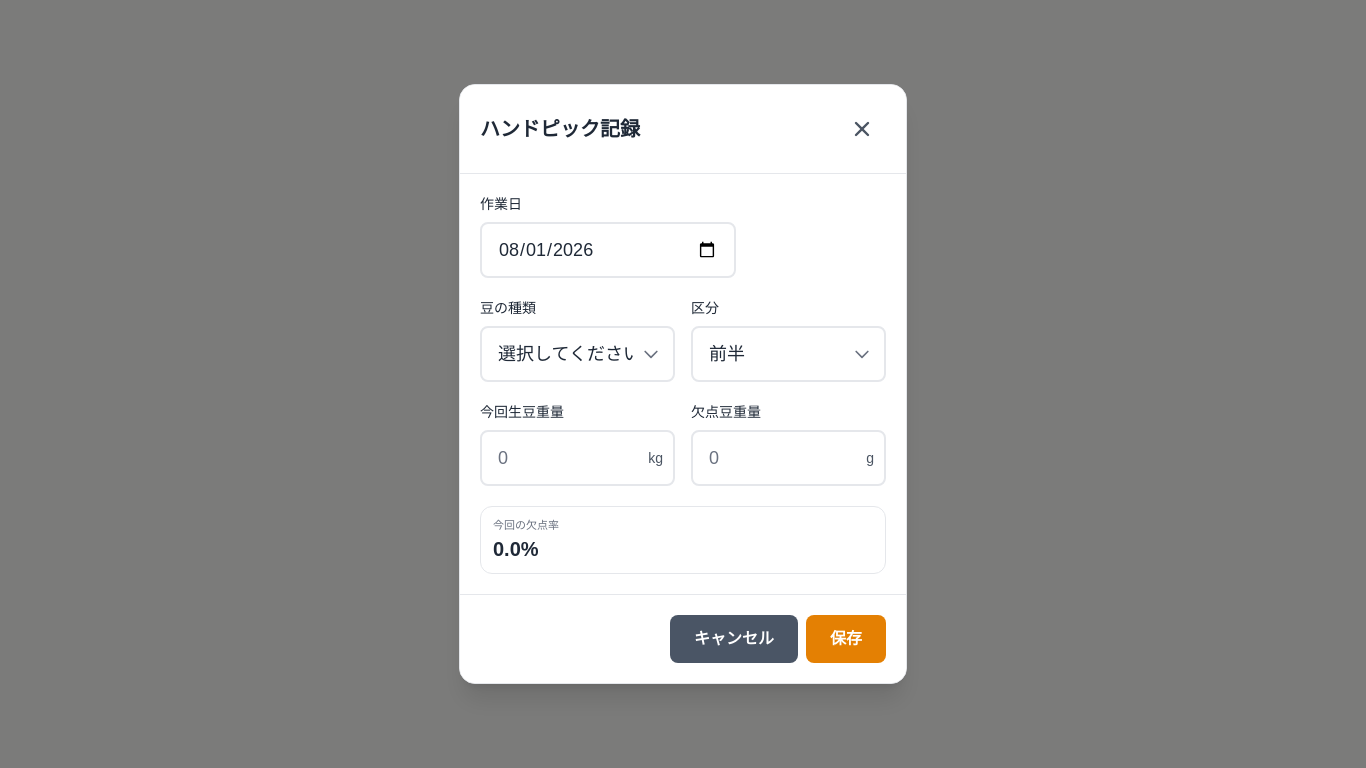
Test case: HandpickEntryModal › 月設定に豆が無いと豆名未選択で保存できずエラーを表示する
This screenshot has width=1366, height=768.
In the number field labelled "今回生豆重量": (578, 458) left=480, top=430, right=675, bottom=486, type "10"
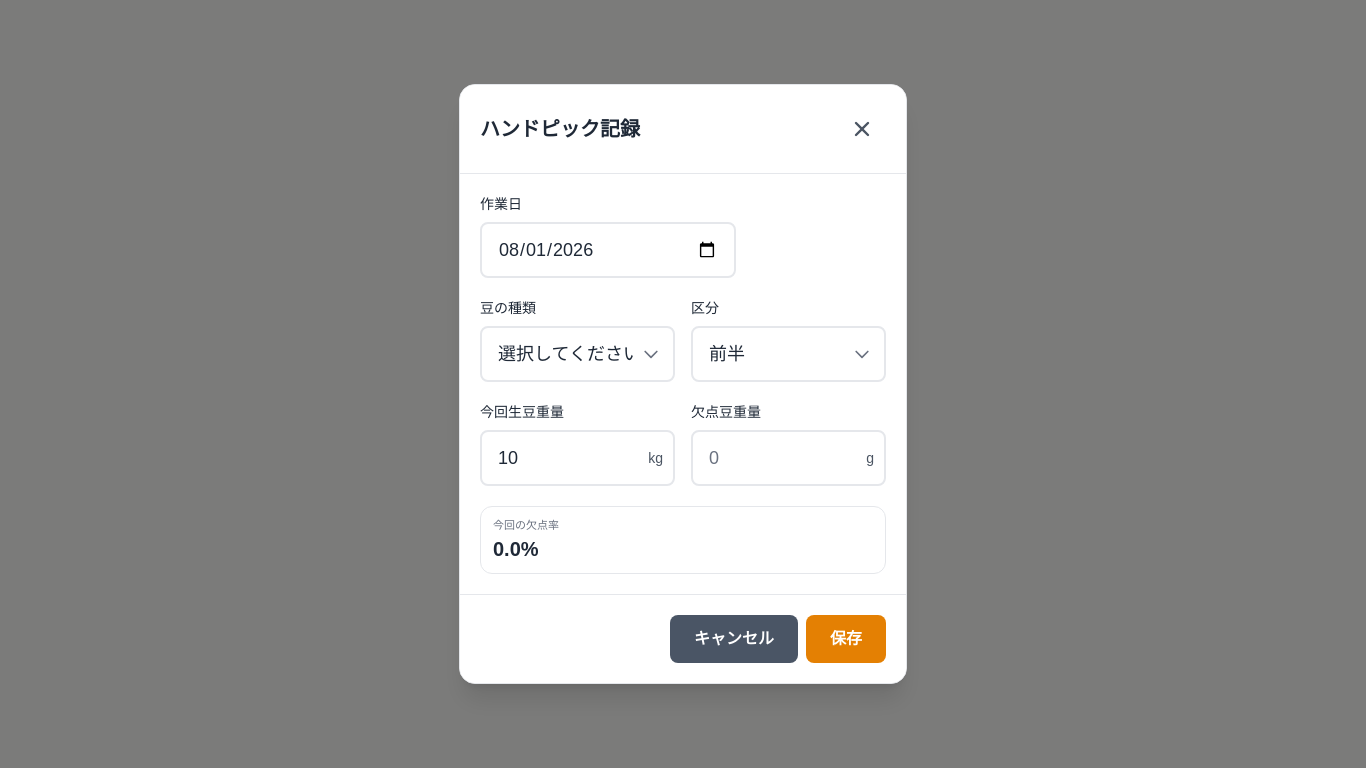
Click the button "保存": (846, 639) left=806, top=615, right=886, bottom=663
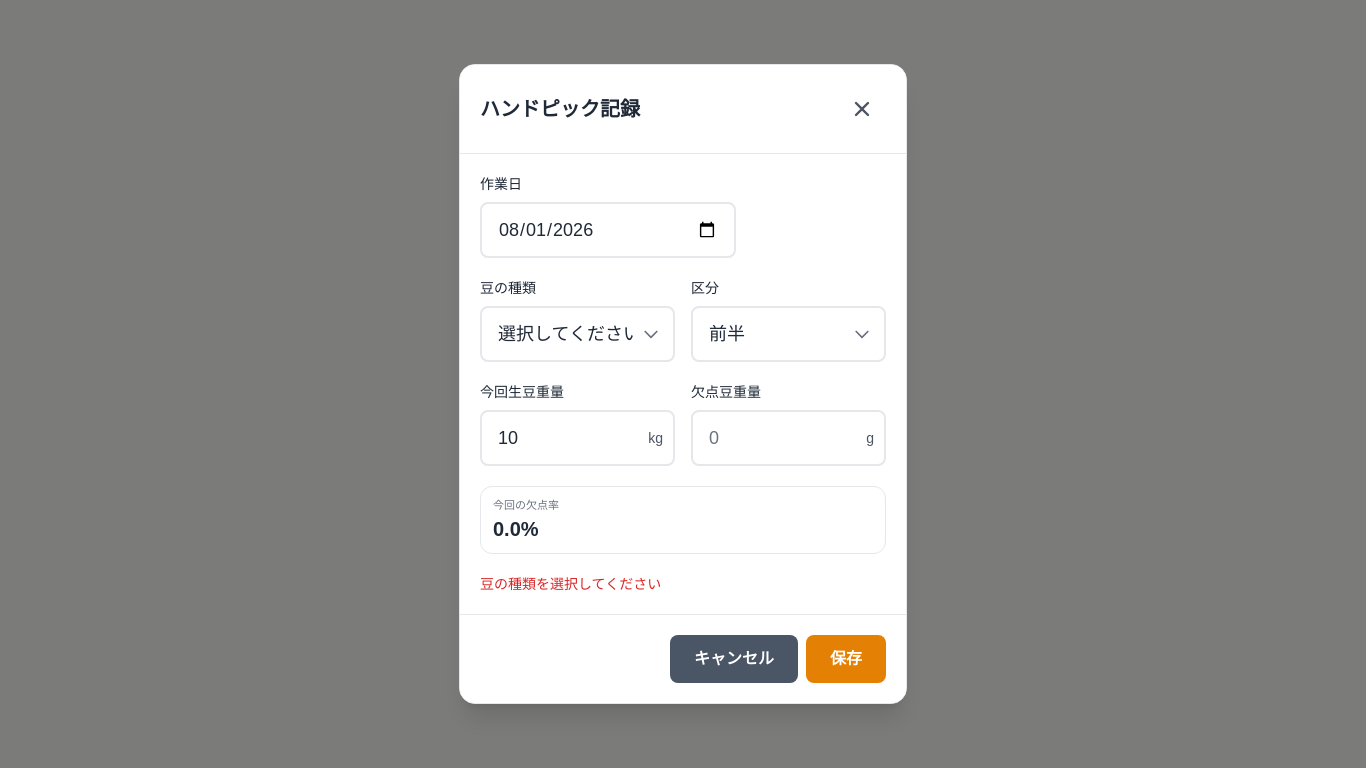
Check: the message "豆の種類を選択してください" is shown, box left=480, top=576, right=661, bottom=592
